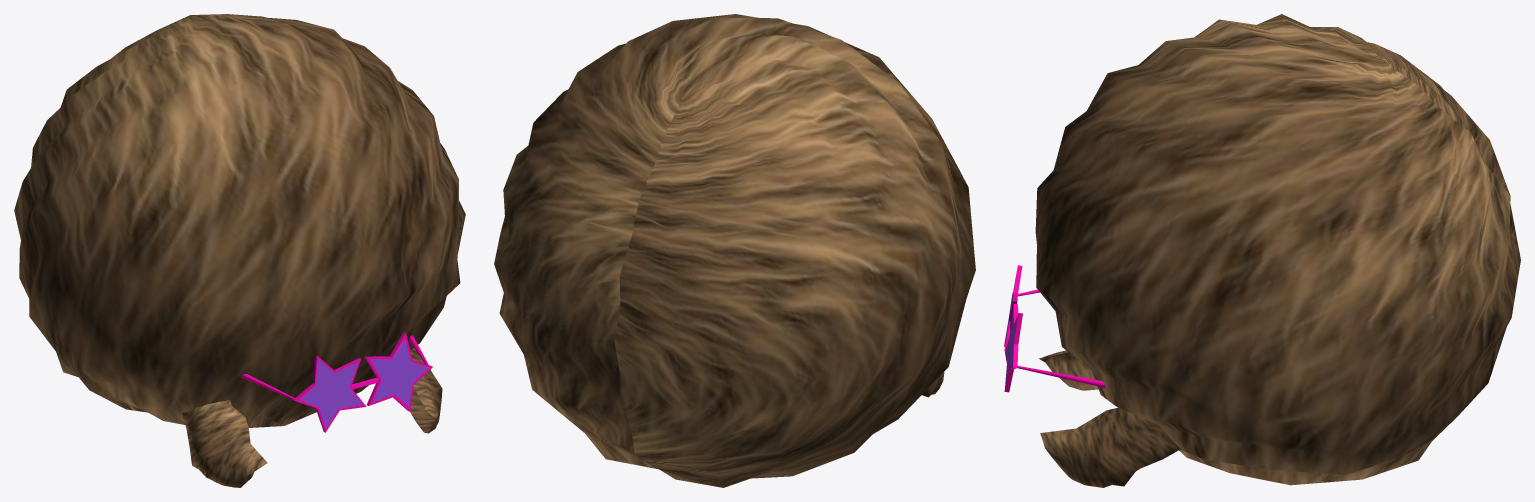
Rendered from trollAfro.fbx.
3 views of the same model, side by side, from view 1: azimuth 30°, elevation 25°; view 2: azimuth 150°, elevation 25°; view 3: azimuth 270°, elevation 25° (orthographic). The views are drawn at different scales.
Visible parts, largest first — view 1: pCube3, polySurface11; view 2: pCube3; view 3: pCube3, polySurface11.
Part boxes in pixels (x1,y1,x2,y2): pCube3: (14, 14, 465, 487); polySurface11: (241, 332, 432, 432); pCube3: (494, 14, 975, 487); pCube3: (1035, 14, 1520, 487); polySurface11: (1004, 265, 1105, 392).
Bounding box in the file's own units: 3.06 × 2.83 × 3.18.
